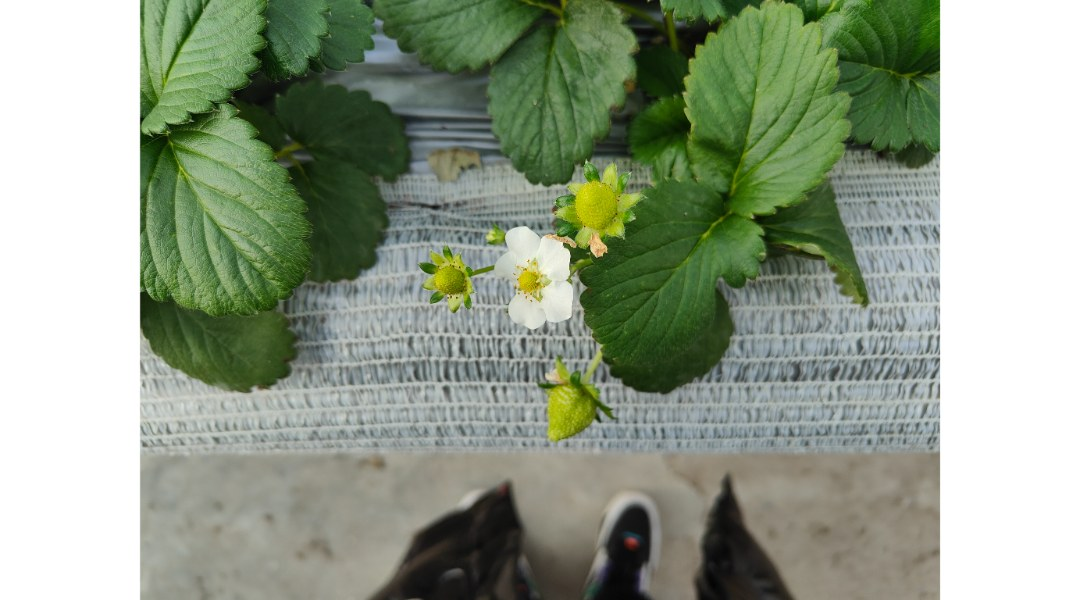berry: (545, 154, 645, 256), (533, 378, 608, 449), (408, 249, 480, 307)
flower: (485, 218, 577, 325)
